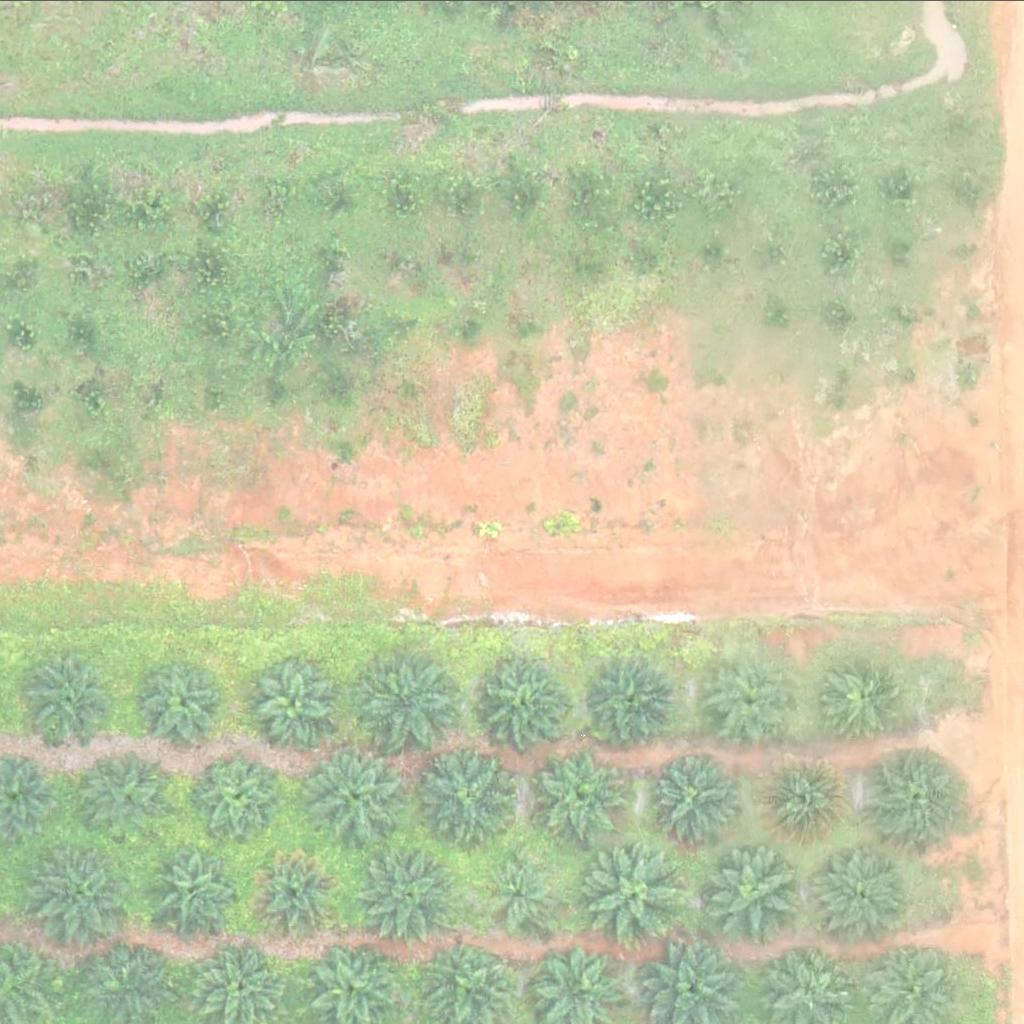Kelapa_Sawit: (34, 841, 135, 941), (585, 837, 686, 937), (706, 839, 807, 939), (810, 841, 911, 941), (864, 742, 965, 842), (355, 652, 455, 752), (307, 747, 407, 847), (421, 745, 521, 845), (359, 842, 459, 942), (26, 651, 114, 739), (140, 655, 228, 743), (250, 654, 338, 742), (537, 747, 625, 835), (647, 753, 735, 841), (758, 753, 846, 841), (821, 648, 909, 736), (82, 750, 170, 837), (154, 845, 242, 932), (487, 655, 575, 742), (584, 654, 672, 741), (710, 655, 798, 742), (193, 753, 281, 840), (251, 849, 339, 936), (487, 855, 563, 930)
